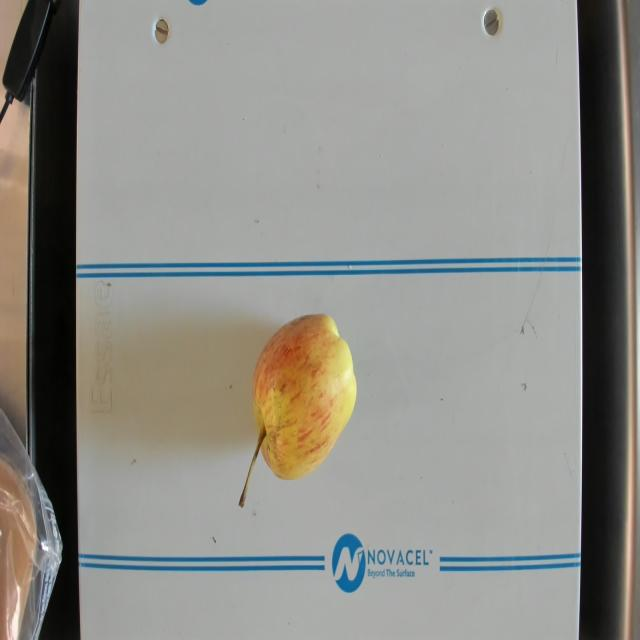apple: (239, 308, 358, 506)
